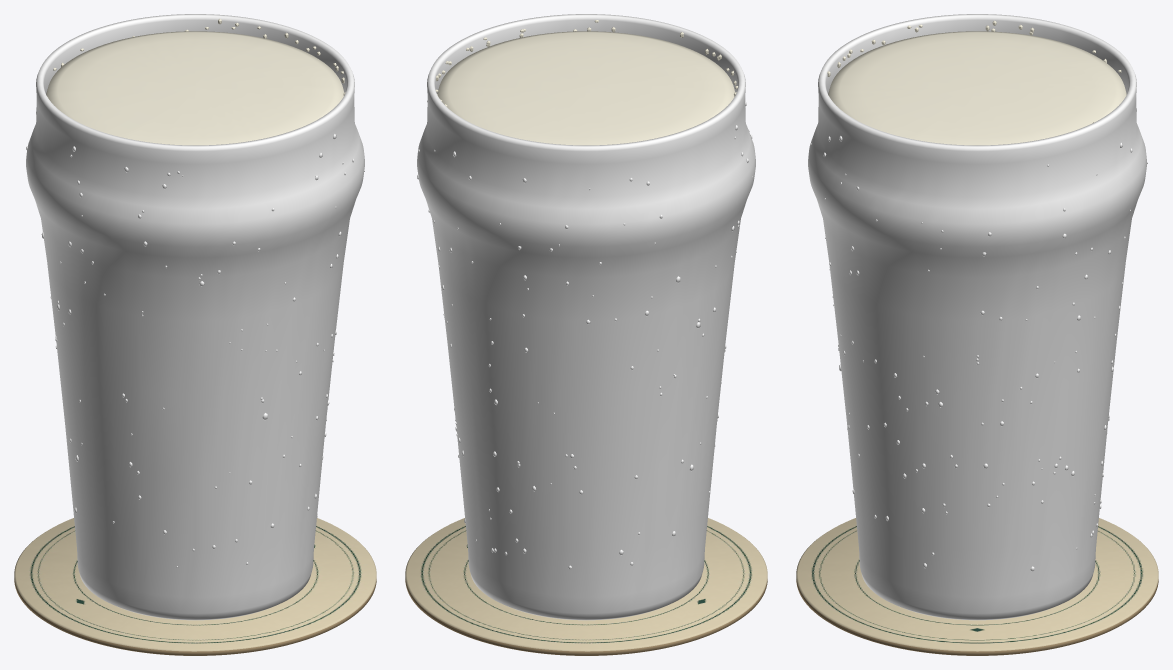
Rendered from pint.glb.
3 renders of one model, left to right at view 1: azimuth 30°, elevation 25°; view 2: azimuth 150°, elevation 25°; view 3: azimuth 270°, elevation 25°, orthographic.
Parts seen in each view (by area): view 1: Glass, Foam, Mat; view 2: Glass, Foam, Mat; view 3: Glass, Foam, Mat.
Part boxes in pixels (x1,y1,x2,y2): Glass: (26, 14, 364, 620); Foam: (46, 19, 345, 145); Mat: (14, 518, 376, 655); Glass: (417, 14, 755, 620); Foam: (435, 20, 737, 145); Mat: (405, 518, 767, 655); Glass: (808, 14, 1147, 620); Foam: (827, 20, 1126, 145); Mat: (796, 518, 1158, 655).
Size of the model in its own units: 0.1 by 0.152 by 0.1.
6 materials, 1 textured.
